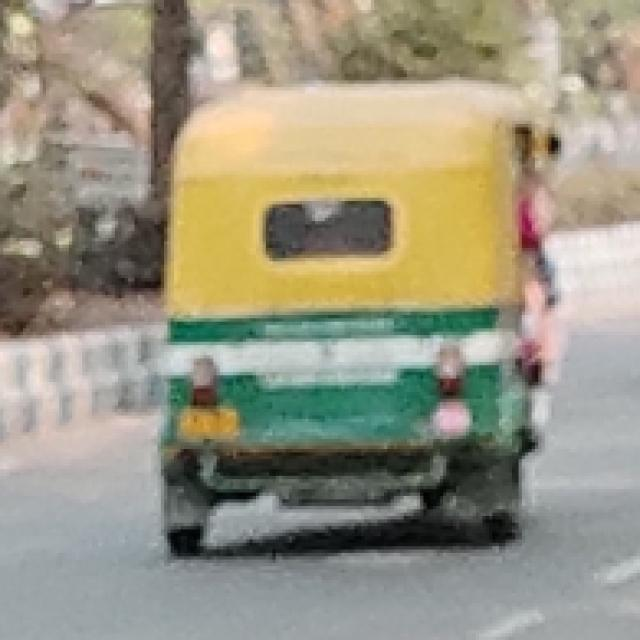autorickshaw: (158, 73, 561, 560)
